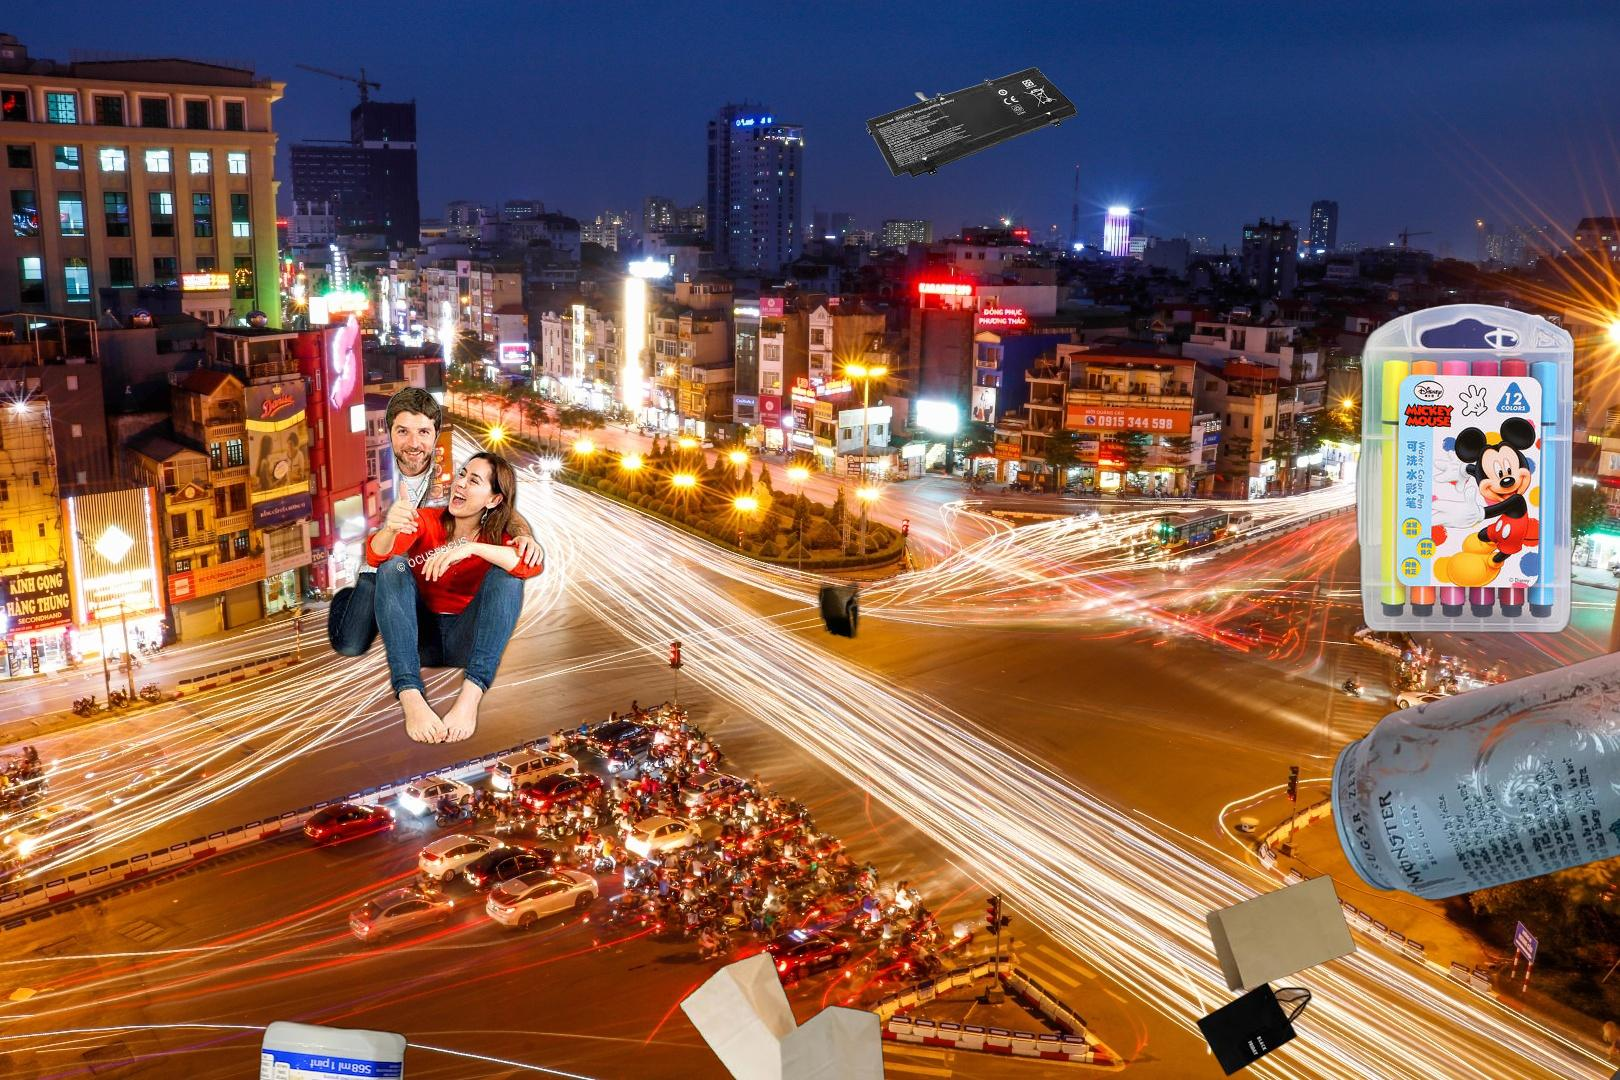battery: (862, 64, 1081, 181)
metal-cans: (1326, 603, 1620, 902)
paper-bag: (1195, 873, 1360, 1079), (677, 949, 892, 1080)
penholder: (1352, 297, 1606, 638)
plastic-bottles: (251, 1014, 411, 1080)
trashbox-cardboard: (664, 513, 1176, 897), (319, 382, 640, 749)
